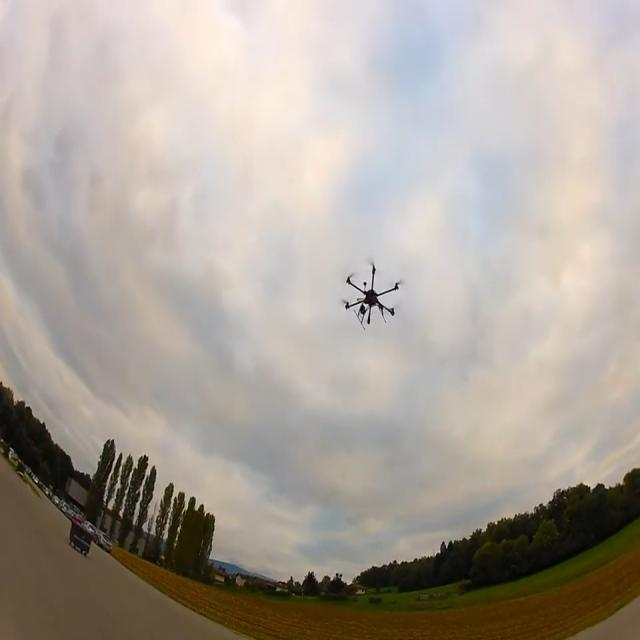drone: (341, 262, 402, 330)
